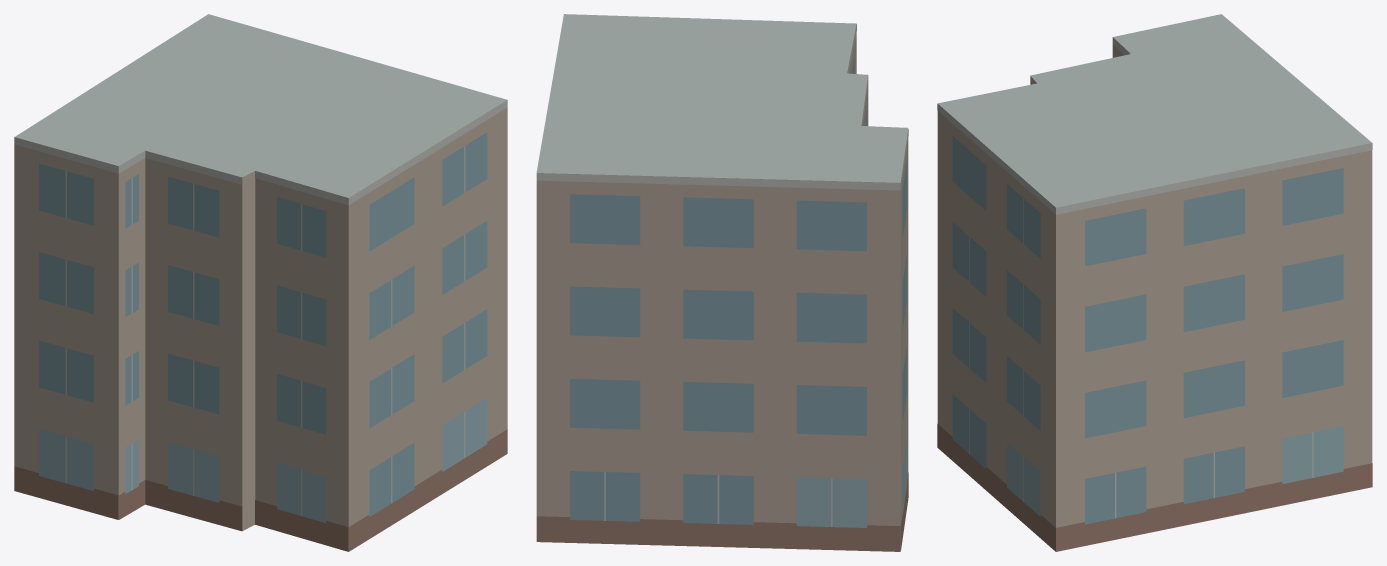
The model's file is survey-upis-32741342.glb.
3 renders of one model, left to right at view 1: azimuth 30°, elevation 25°; view 2: azimuth 150°, elevation 25°; view 3: azimuth 270°, elevation 25°, orthographic. The views are drawn at different scales.
Parts seen in each view (by area): view 1: survey-upis-32741342.tmp; view 2: survey-upis-32741342.tmp; view 3: survey-upis-32741342.tmp.
Boxes of the visible parts, left/top/right/bottom form: survey-upis-32741342.tmp: left=14, top=14, right=507, bottom=551; survey-upis-32741342.tmp: left=536, top=14, right=908, bottom=551; survey-upis-32741342.tmp: left=937, top=14, right=1372, bottom=551.
Size of the model in its own units: 14.25 by 11.8 by 13.53.
